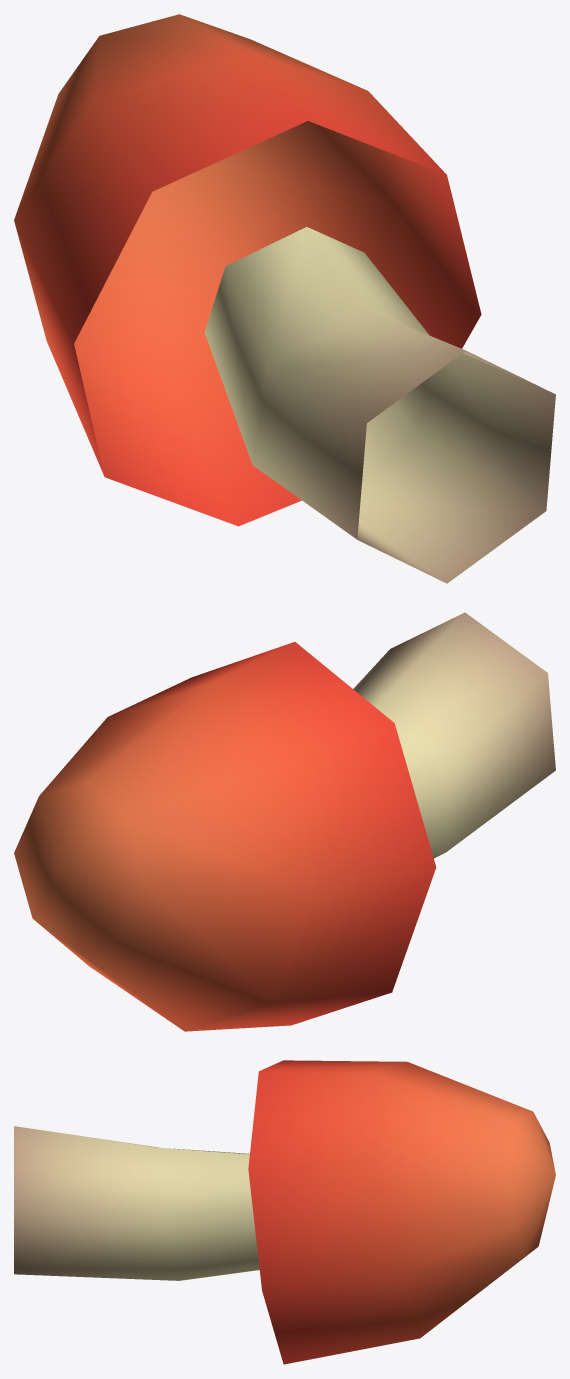
File: Mushroom 02.FBX
The picture shows the model from 3 angles, top to bottom: view 1: azimuth 30°, elevation 25°; view 2: azimuth 150°, elevation 25°; view 3: azimuth 270°, elevation 25°; orthographic projection. The views are drawn at different scales.
Parts seen in each view (by area): view 1: Mushroom 02; view 2: Mushroom 02; view 3: Mushroom 02.
Part boxes in pixels (left/top/right/bottom): Mushroom 02: left=14, top=14, right=555, bottom=583; Mushroom 02: left=14, top=612, right=555, bottom=1031; Mushroom 02: left=14, top=1060, right=555, bottom=1364.
Bounding box in the file's own units: 26.12 × 27.64 × 46.68.
1 material, 1 textured.
